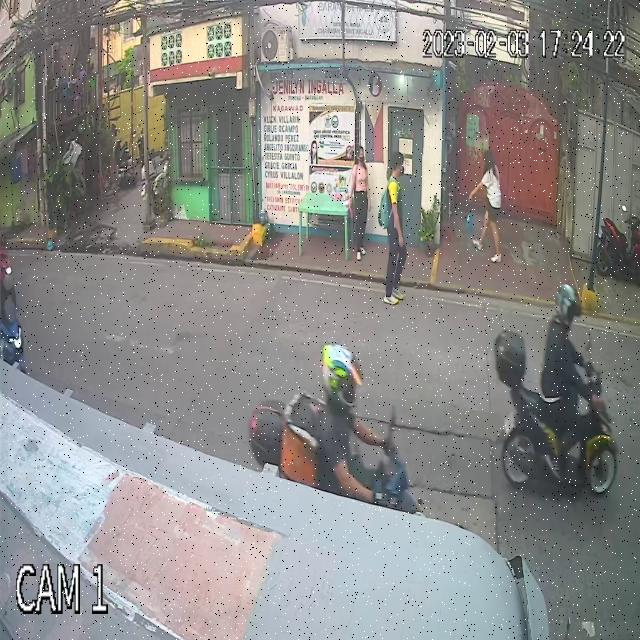human: (466, 150, 503, 264)
trash: (464, 211, 474, 233)
